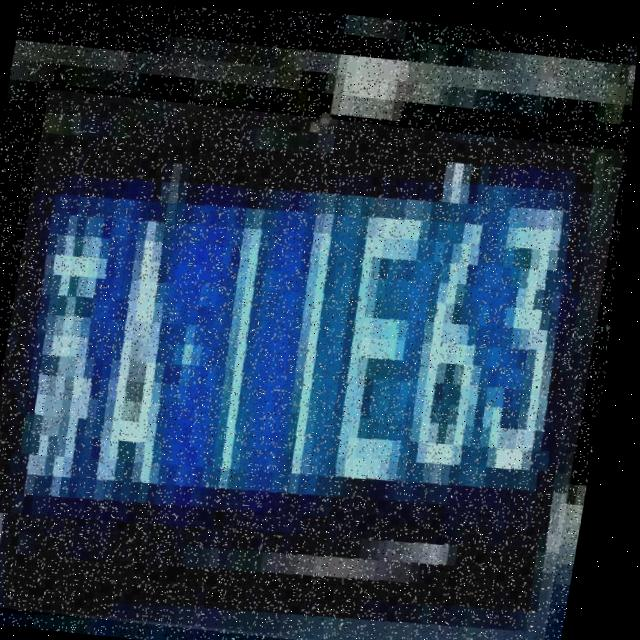LicensePlate: (0, 87, 630, 640)
